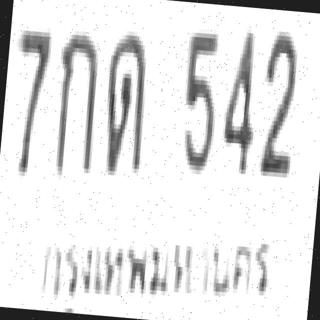A01: (49, 23, 101, 175)
A20: (98, 25, 150, 169)
N02: (255, 26, 300, 173)
N04: (217, 23, 260, 170)
N05: (176, 23, 221, 170)
N07: (7, 24, 50, 175)
P04: (26, 202, 280, 320)
